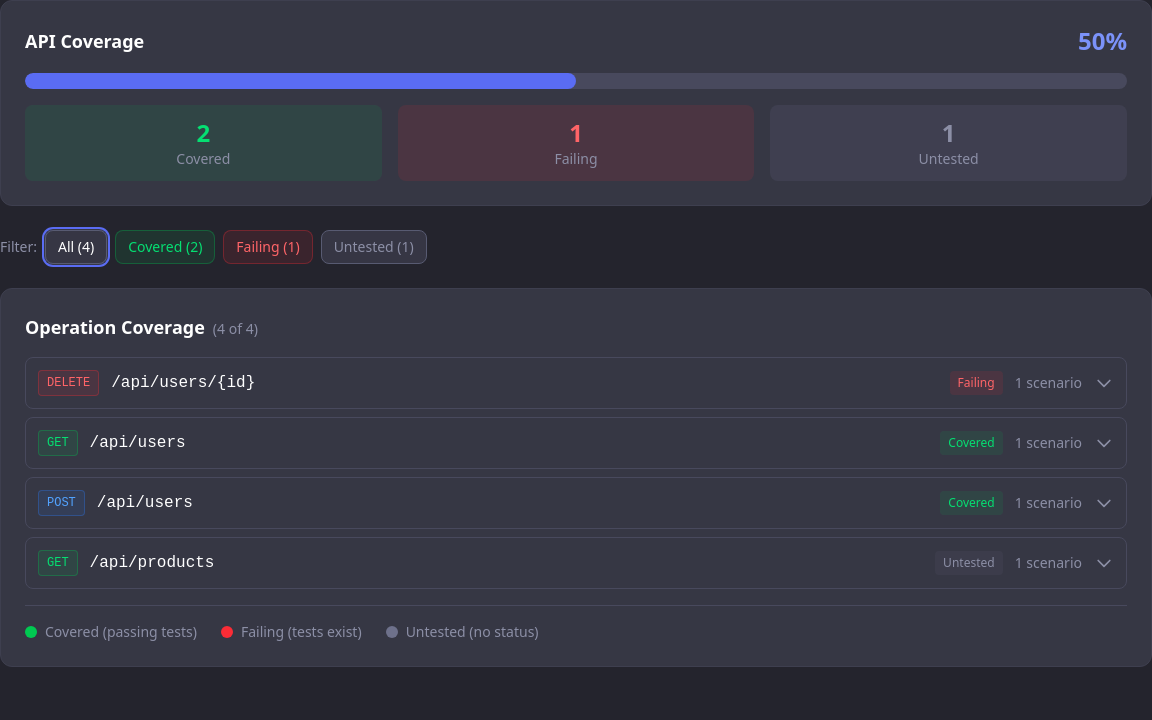
OperationCoverageTable › collapses operation when clicked again
Click the button "GET /api/users Covered 1 scenario" at (58, 443), box [26,418,1126,468]
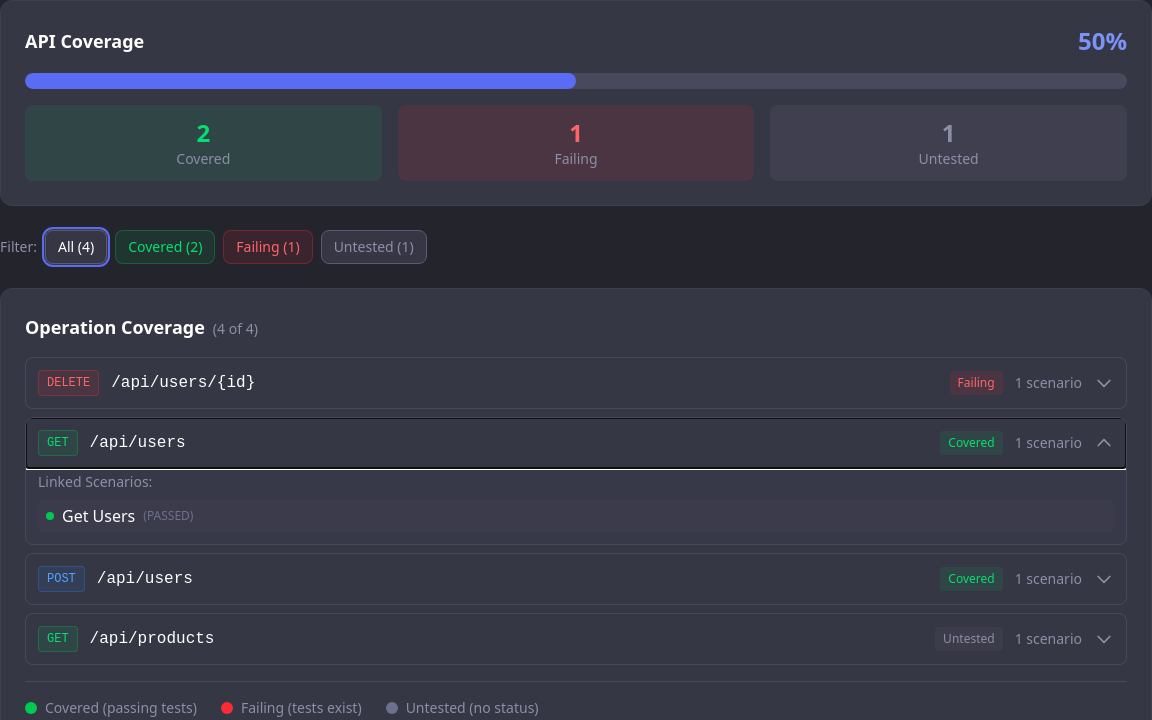
Result: the element with test id "scenario-list" is shown at [26,468,1126,544]
Click the button "GET /api/users Covered 1 scenario" at (58, 443), box [26,418,1126,468]
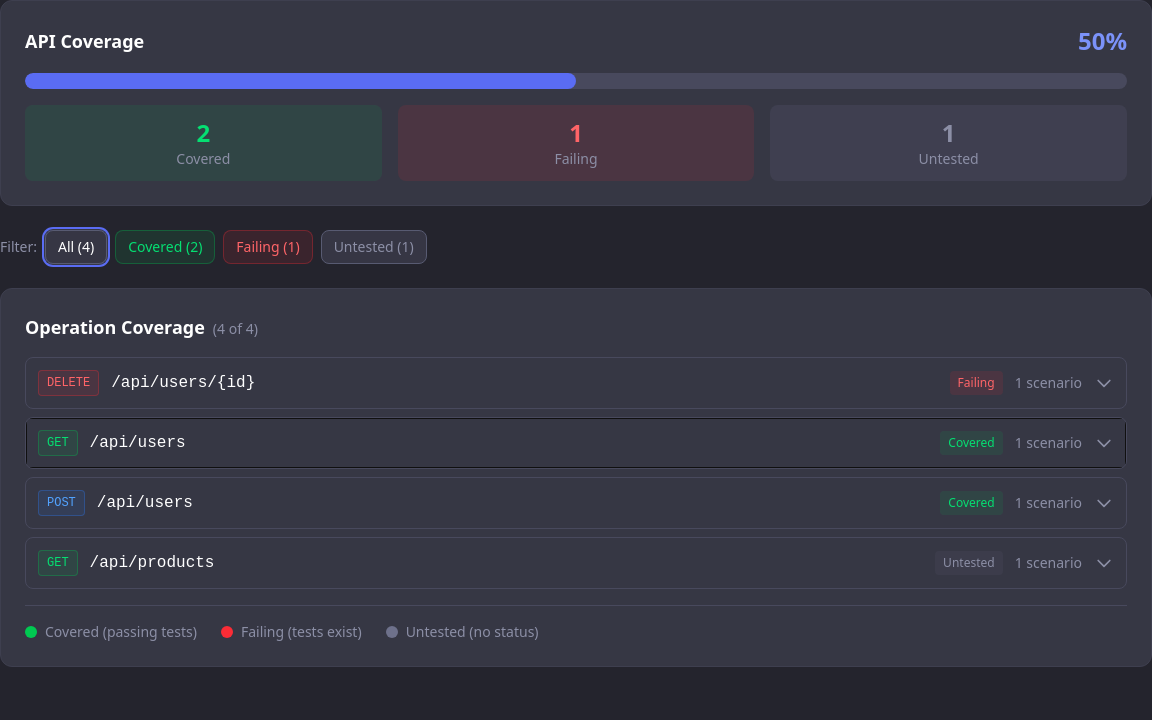
Result: the element with test id "scenario-list" is gone
